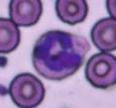N: (31, 30, 86, 80)
